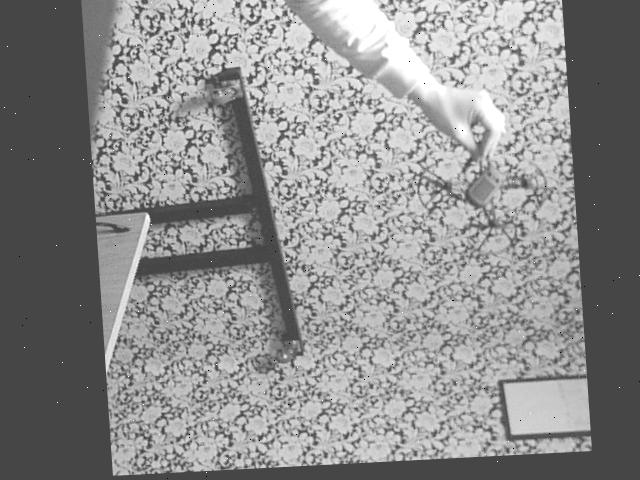drone: (414, 122, 554, 267)
